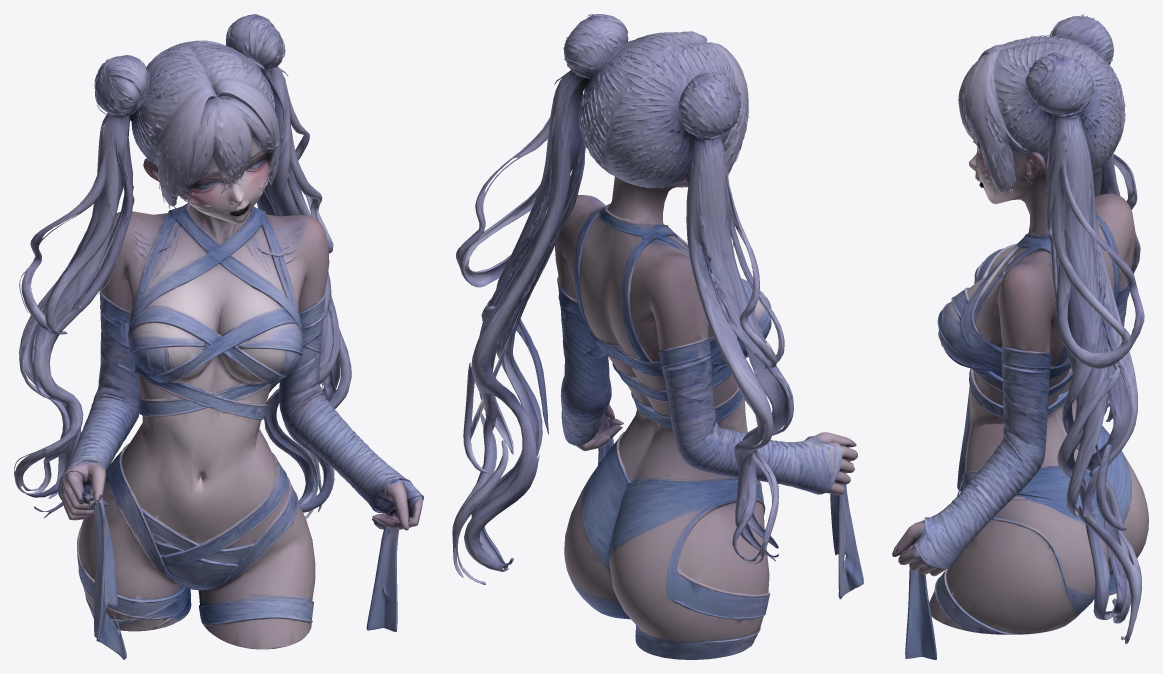
3 views of the same model, side by side, from view 1: azimuth 30°, elevation 25°; view 2: azimuth 150°, elevation 25°; view 3: azimuth 270°, elevation 25° (orthographic). The views are drawn at different scales.
Parts seen in each view (by area): view 1: node_0; view 2: node_0; view 3: node_0.
Part boxes in pixels (bbox=[...]): node_0: bbox=[14, 14, 423, 659]; node_0: bbox=[452, 14, 863, 659]; node_0: bbox=[892, 14, 1148, 659].
Size of the model in its own units: 0.6123 by 1.04 by 0.4252.
Materials: 1 (1 with a texture image).
